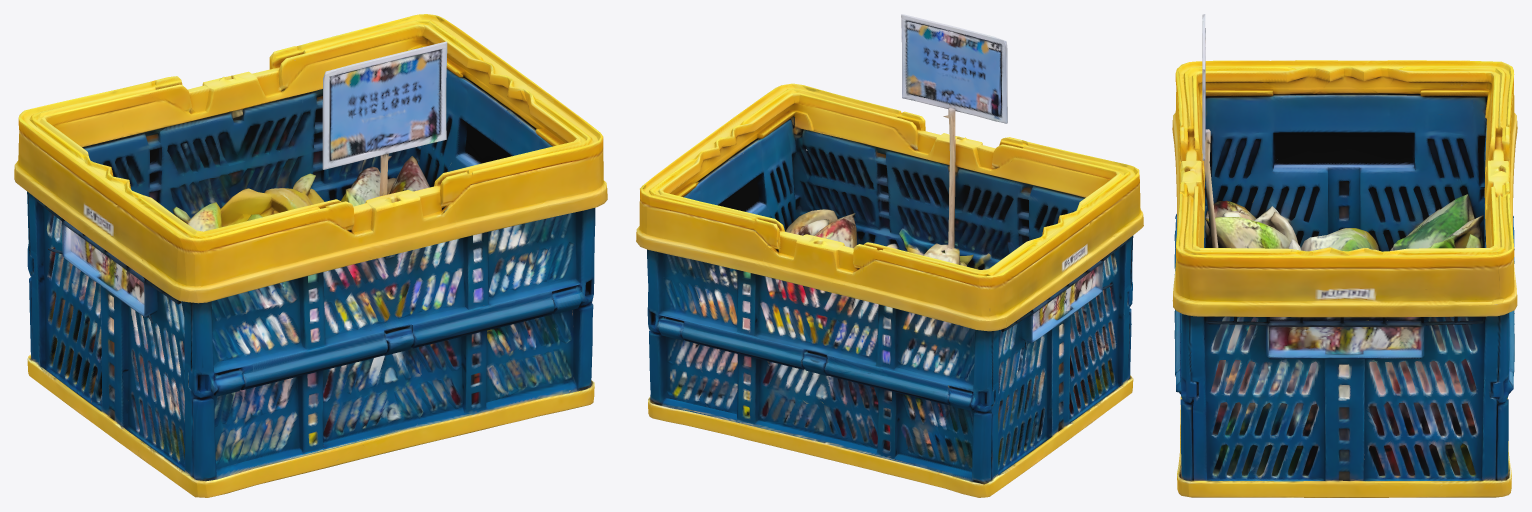
File: basket.glb
3 renders of one model, left to right at view 1: azimuth 30°, elevation 25°; view 2: azimuth 150°, elevation 25°; view 3: azimuth 270°, elevation 25°, orthographic. The views are drawn at different scales.
Visible parts, largest first — view 1: model; view 2: model; view 3: model.
Part boxes in pixels (<box>): model: <box>14,14,607,497</box>; model: <box>636,14,1143,497</box>; model: <box>1172,14,1517,497</box>.
Bounding box in the file's own units: 0.5143 × 0.4351 × 0.3726.
1 material, 1 textured.
